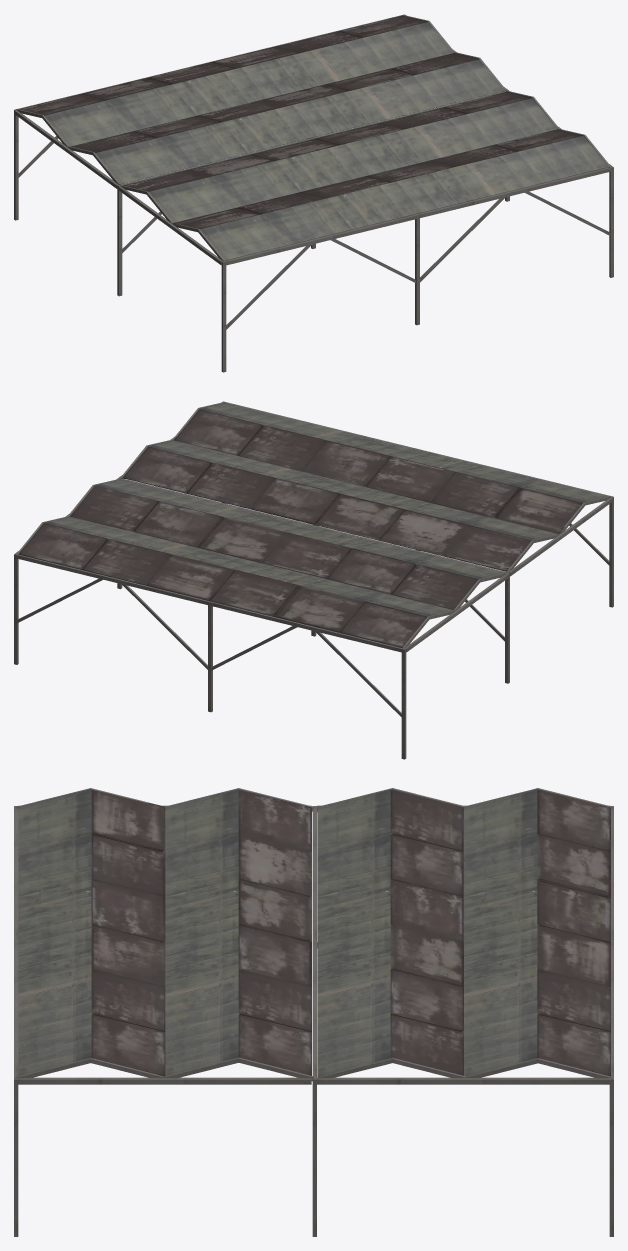
Rendered from Open_Building_2.glb.
The picture shows the model from 3 angles, top to bottom: view 1: azimuth 30°, elevation 25°; view 2: azimuth 150°, elevation 25°; view 3: azimuth 270°, elevation 25°; orthographic projection. The views are drawn at different scales.
Visible parts, largest first — view 1: Open_Building_2; view 2: Open_Building_2; view 3: Open_Building_2.
Part boxes in pixels (bbox=[...]): Open_Building_2: bbox=[14, 14, 613, 372]; Open_Building_2: bbox=[14, 401, 613, 759]; Open_Building_2: bbox=[14, 788, 613, 1236].
Bounding box in the file's own units: 17.23 × 5.19 × 15.94.
1 material, 1 textured.
